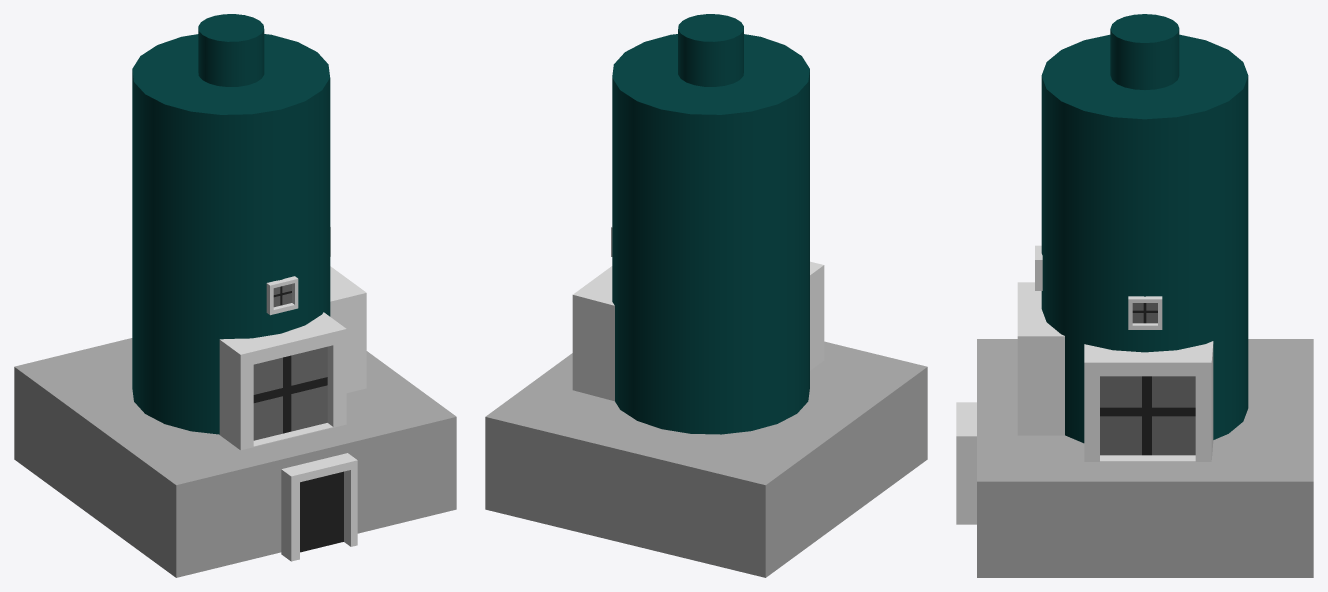
File: building_clyA.fbx
The picture shows the model from 3 angles, left to right: view 1: azimuth 30°, elevation 25°; view 2: azimuth 150°, elevation 25°; view 3: azimuth 270°, elevation 25°; orthographic projection. The views are drawn at different scales.
Visible parts, largest first — view 1: pCube28; view 2: pCube28; view 3: pCube28.
Boxes of the visible parts, x1=… form: pCube28: x1=14, y1=14, x2=456, y2=577; pCube28: x1=485, y1=14, x2=927, y2=577; pCube28: x1=956, y1=14, x2=1313, y2=577.
Bounding box in the file's own units: 9.91 × 15.51 × 10.52.
